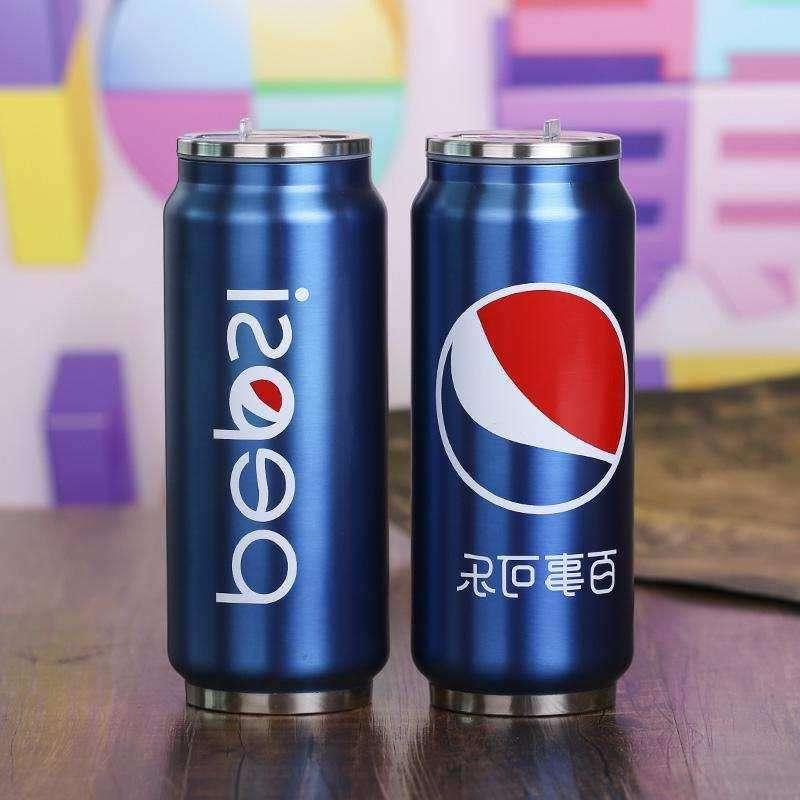metal: (412, 120, 634, 715), (164, 126, 387, 713)
